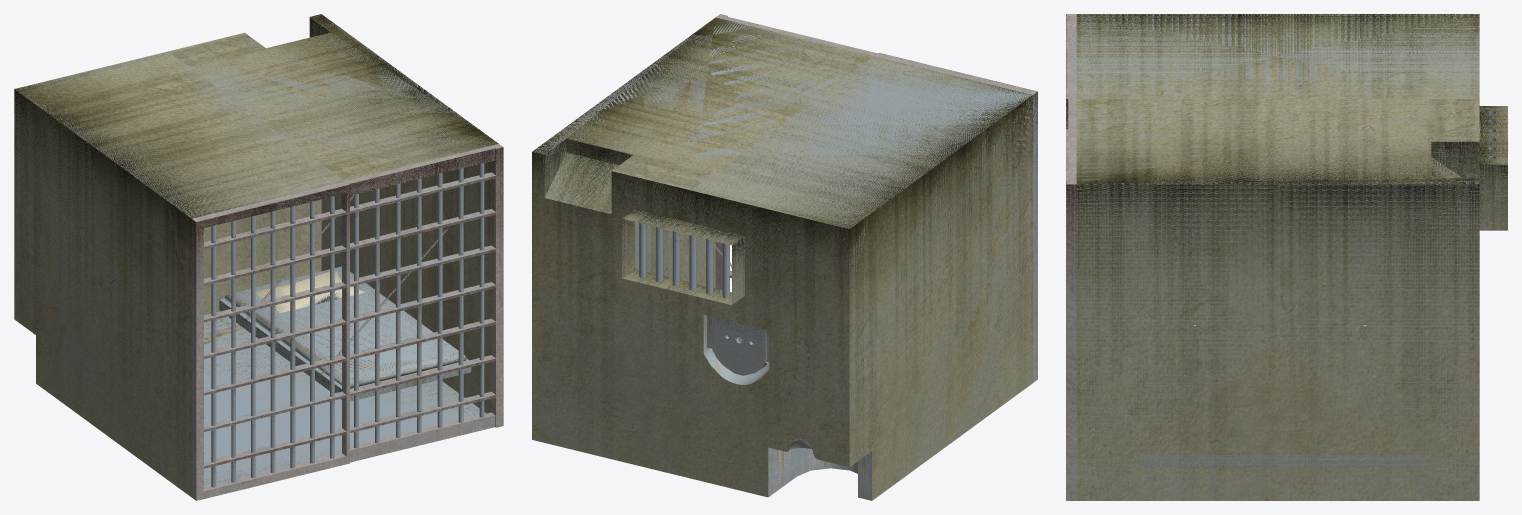
File: jail.fbx
3 views of the same model, side by side, from view 1: azimuth 30°, elevation 25°; view 2: azimuth 150°, elevation 25°; view 3: azimuth 270°, elevation 25° (orthographic). The views are drawn at different scales.
Parts seen in each view (by area): view 1: Jail_Cell1, Group1, Group2, Component_2_6, Component_2_8, Component_2_4, Component_2_9, Component_2_7, Component_2_13, Component_2_5, Component_2_2, Component_2_10 (+19 smaller); view 2: Jail_Cell1, Group1; view 3: Jail_Cell1, Group1, Group2.
Boxes of the visible parts, x1,y1,x2,y2 form: Jail_Cell1: (14, 14, 498, 497); Group1: (191, 144, 503, 500); Group2: (219, 195, 471, 401); Component_2_6: (290, 206, 295, 468); Component_2_8: (211, 225, 216, 487); Component_2_4: (270, 211, 275, 472); Component_2_9: (458, 168, 463, 422); Component_2_7: (437, 173, 442, 427); Component_2_13: (479, 163, 484, 417); Component_2_5: (330, 196, 334, 458); Component_2_2: (251, 215, 255, 477); Component_2_10: (231, 220, 235, 482); Jail_Cell1: (532, 17, 1032, 500); Group1: (715, 14, 1037, 382); Jail_Cell1: (1076, 14, 1507, 500); Group1: (1066, 14, 1076, 500); Group2: (1139, 325, 1426, 466).
Size of the model in its own units: 2.44 by 2.11 by 2.67.
